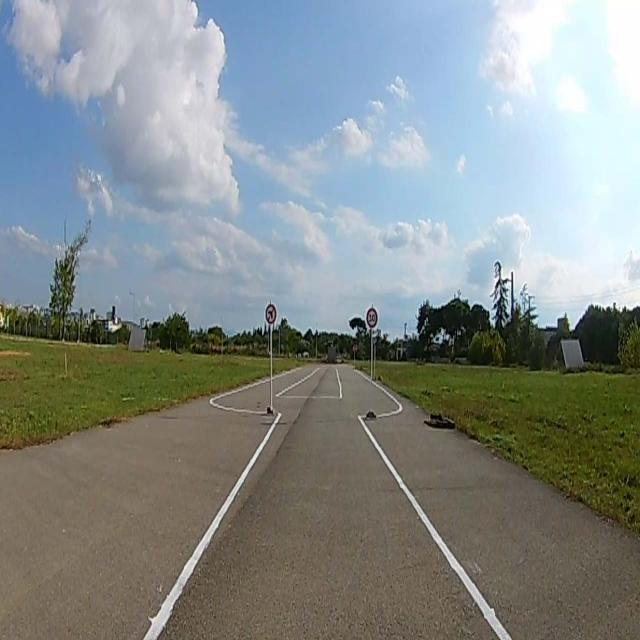30: (368, 309, 378, 327)
soladonulmez: (266, 305, 276, 324)
